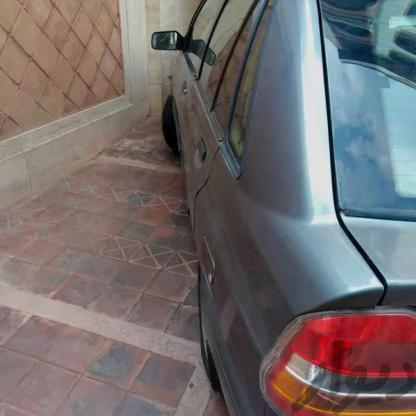Car: (137, 0, 416, 416)
